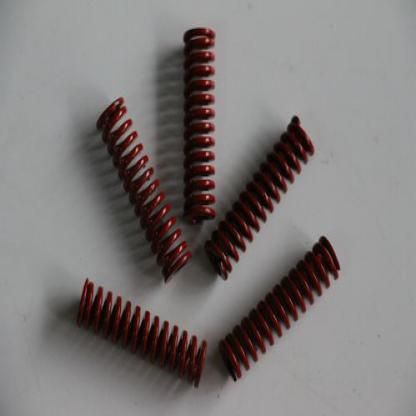FOD: (204, 114, 318, 284), (216, 231, 343, 382), (95, 92, 193, 287), (74, 276, 210, 391), (180, 24, 218, 225)
